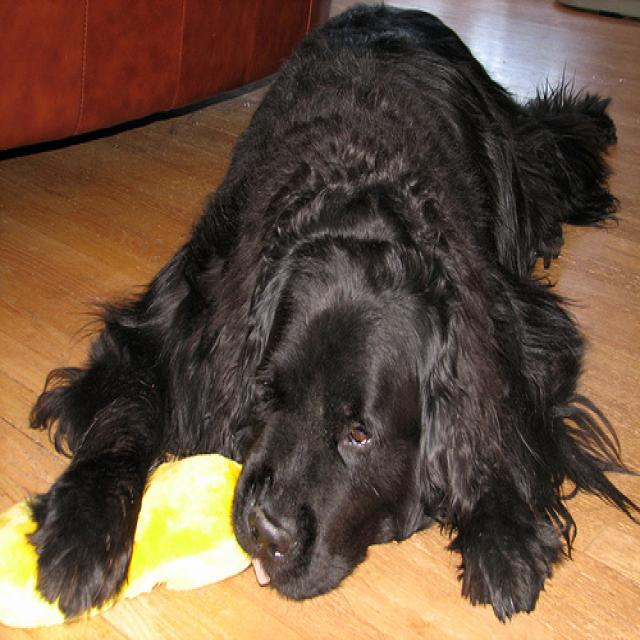dog-newfoundland: (17, 2, 621, 625)
